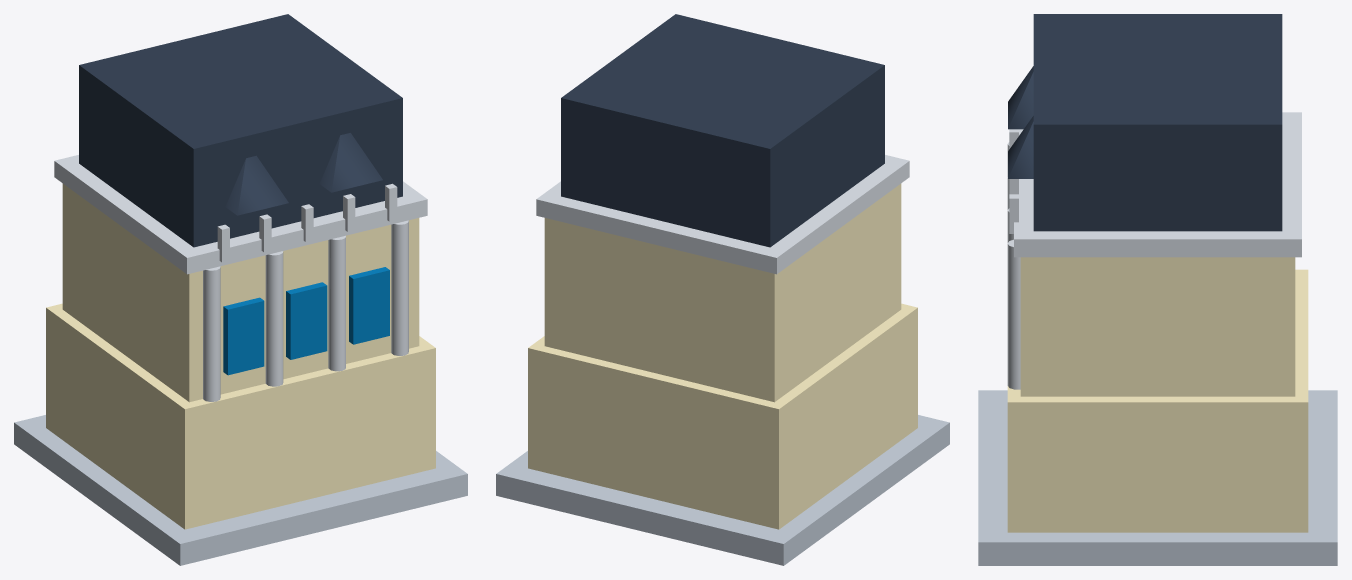
File: bld_heritage_c2.glb
The picture shows the model from 3 angles, left to right: view 1: azimuth 30°, elevation 25°; view 2: azimuth 150°, elevation 25°; view 3: azimuth 270°, elevation 25°; orthographic projection. The views are drawn at different scales.
Visible parts, largest first — view 1: Bld_Heritage_C2_ColonialMansion; view 2: Bld_Heritage_C2_ColonialMansion; view 3: Bld_Heritage_C2_ColonialMansion.
Boxes of the visible parts, x1=… form: Bld_Heritage_C2_ColonialMansion: x1=14, y1=14, x2=467, y2=565; Bld_Heritage_C2_ColonialMansion: x1=496, y1=14, x2=949, y2=565; Bld_Heritage_C2_ColonialMansion: x1=978, y1=14, x2=1337, y2=565.
Bounding box in the file's own units: 0.55 × 0.71 × 0.55.
